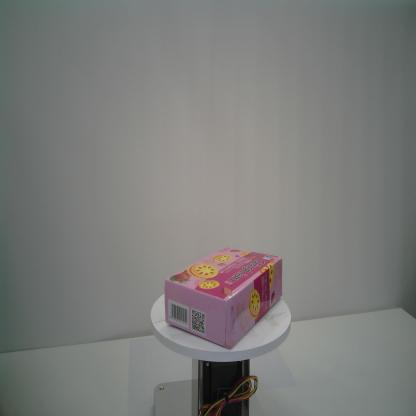Dessert: (164, 246, 283, 349)
